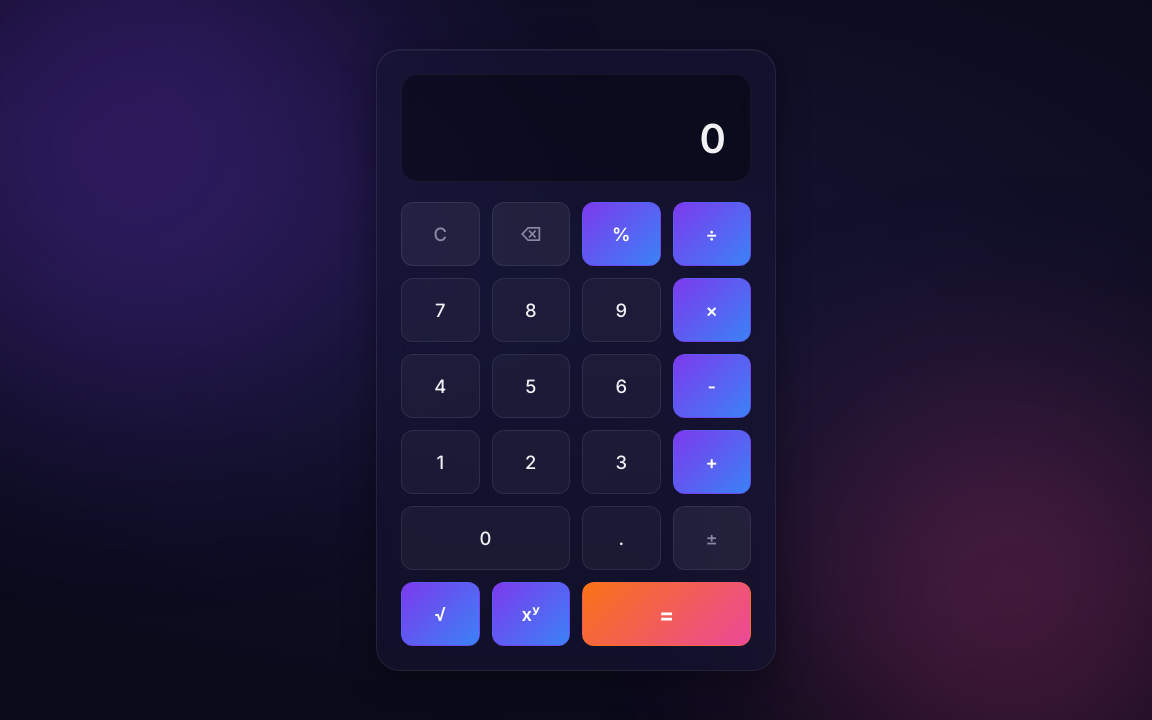
Calculator Component › handles sign toggle
The image size is (1152, 720).
Click the button "5": (531, 386) [492, 354, 570, 418]
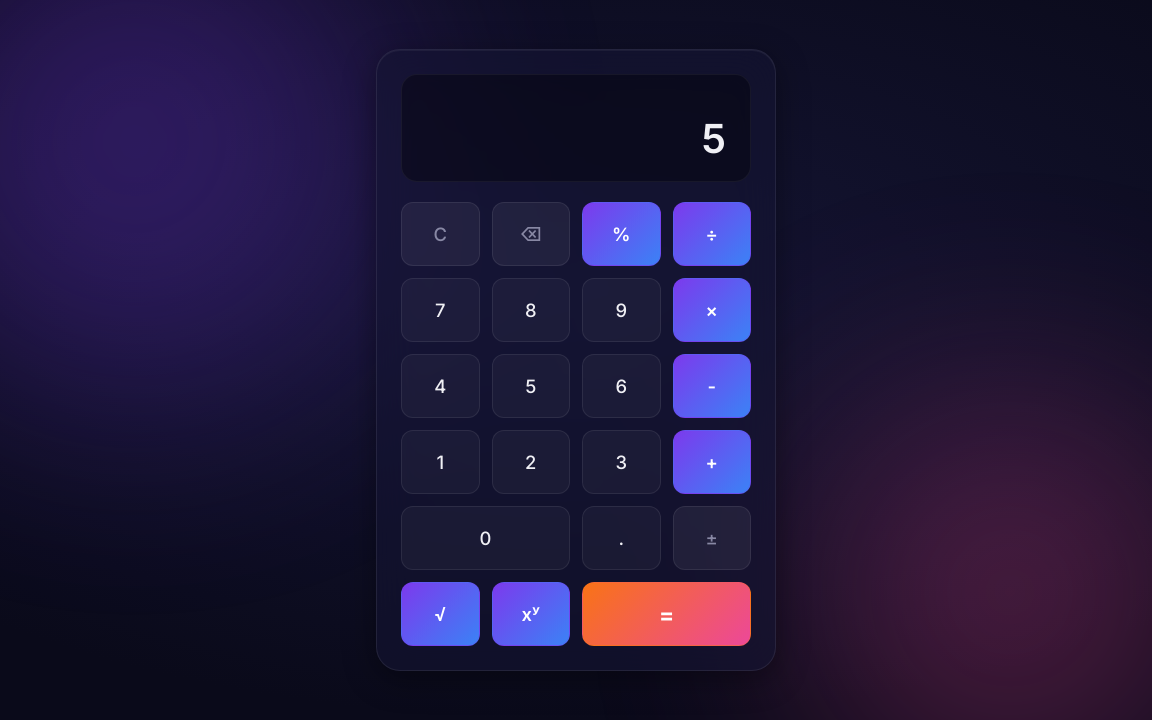
Click the button "±": (712, 538) [672, 506, 751, 570]
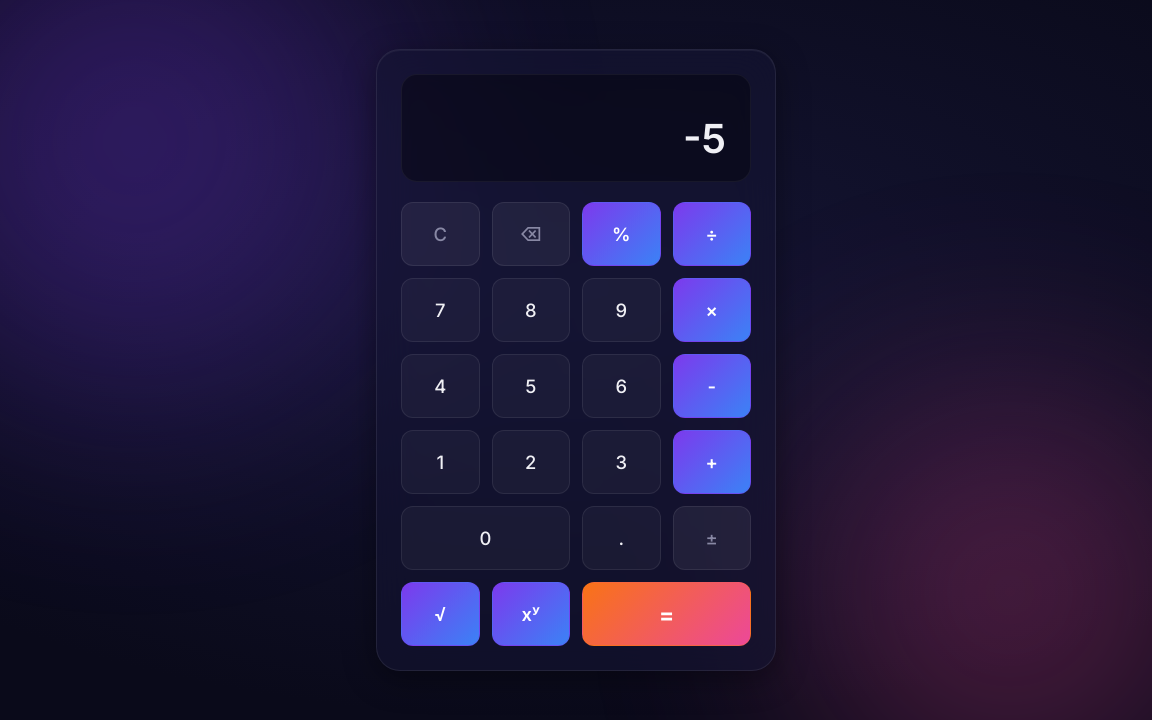
Expected: the text "-5" is shown, [683, 114, 726, 163]
